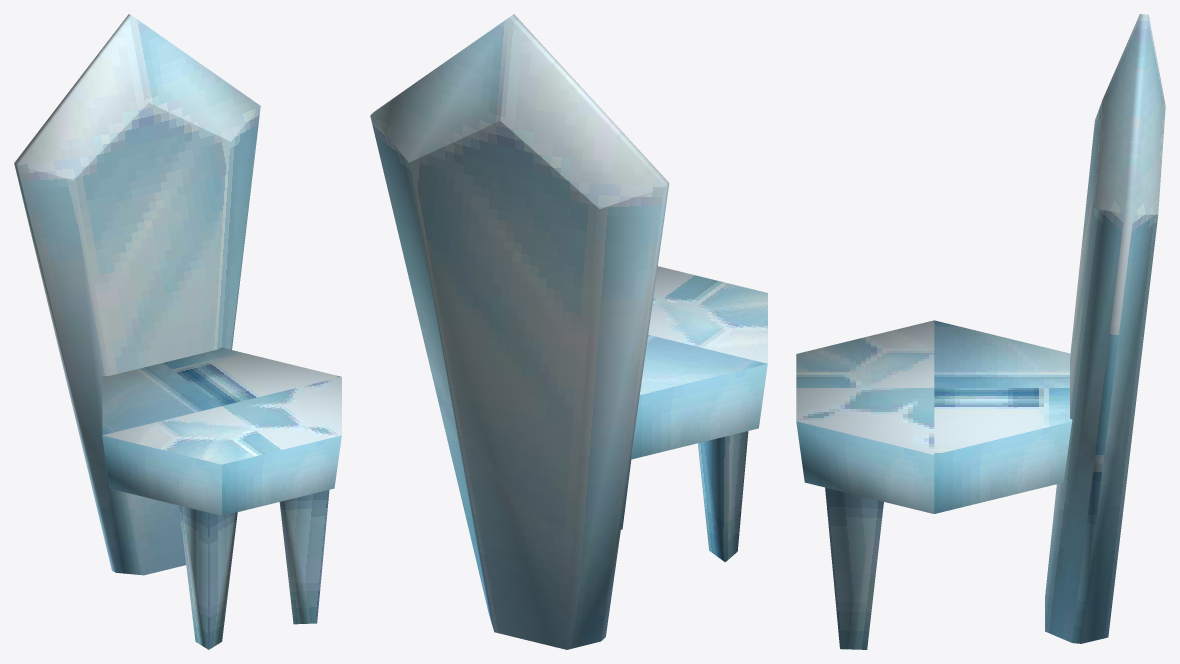
Rendered from int_ice_chairS.dae.
The picture shows the model from 3 angles, left to right: view 1: azimuth 30°, elevation 25°; view 2: azimuth 150°, elevation 25°; view 3: azimuth 270°, elevation 25°; orthographic projection. The views are drawn at different scales.
Parts seen in each view (by area): view 1: int_ice_chairS; view 2: int_ice_chairS; view 3: int_ice_chairS.
Part boxes in pixels (left/top/right/bottom): int_ice_chairS: left=14, top=14, right=341, bottom=649; int_ice_chairS: left=370, top=14, right=767, bottom=649; int_ice_chairS: left=796, top=14, right=1165, bottom=649.
Bounding box in the file's own units: 20.26 × 42.02 × 23.19.
Materials: 1 (1 with a texture image).
